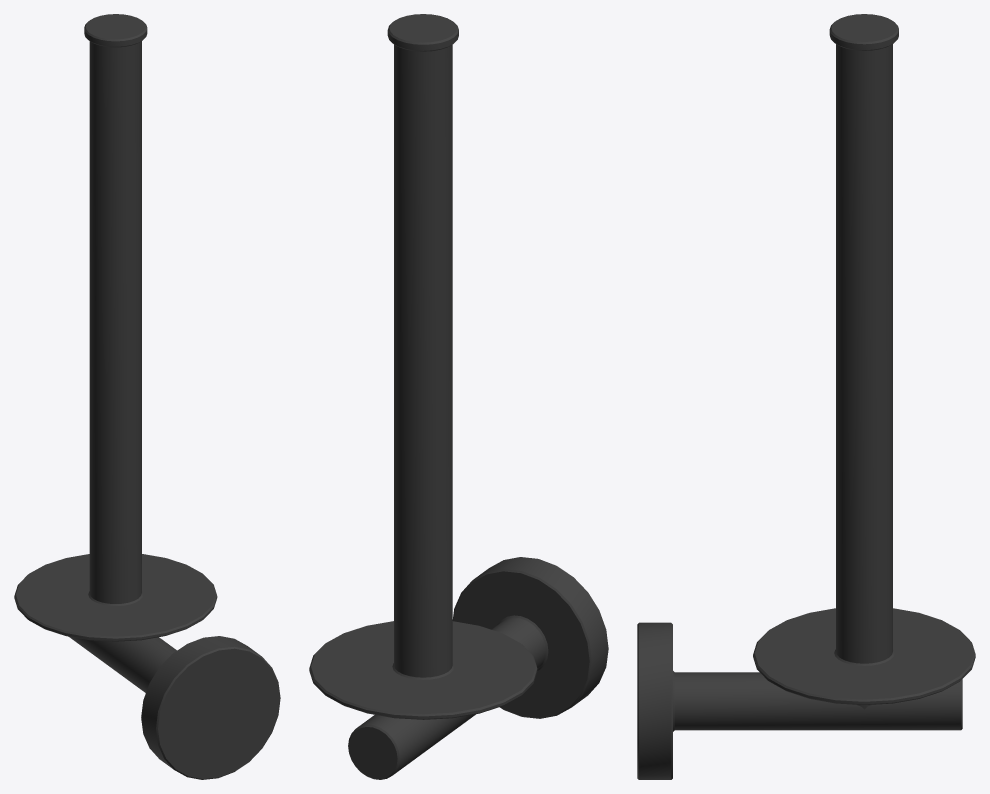
File: IVY_650040.glb
3 renders of one model, left to right at view 1: azimuth 30°, elevation 25°; view 2: azimuth 150°, elevation 25°; view 3: azimuth 270°, elevation 25°, orthographic. The views are drawn at different scales.
Visible parts, largest first — view 1: Body__0; view 2: Body__0; view 3: Body__0.
Part boxes in pixels (x1,y1,x2,y2): Body__0: [14, 14, 280, 779]; Body__0: [309, 14, 608, 779]; Body__0: [637, 14, 975, 779].
Bounding box in the file's own units: 0.068 × 0.25 × 0.103.
1 material, 1 textured.
